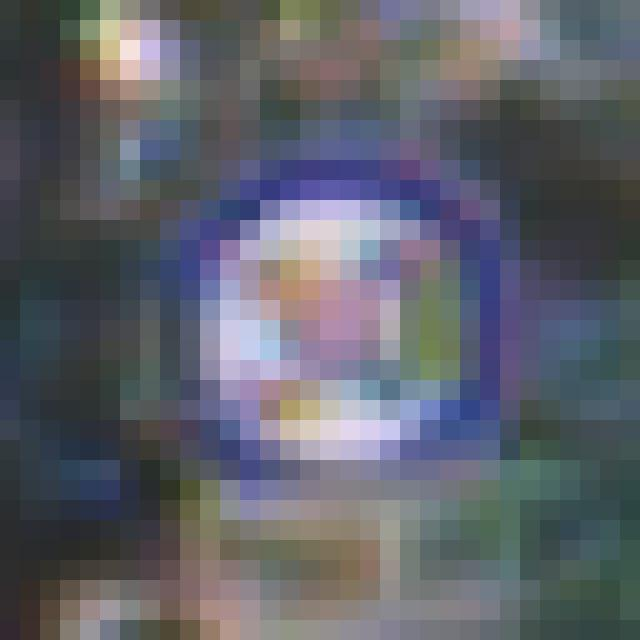SPEED LIMIT 30: (178, 165, 512, 484)
